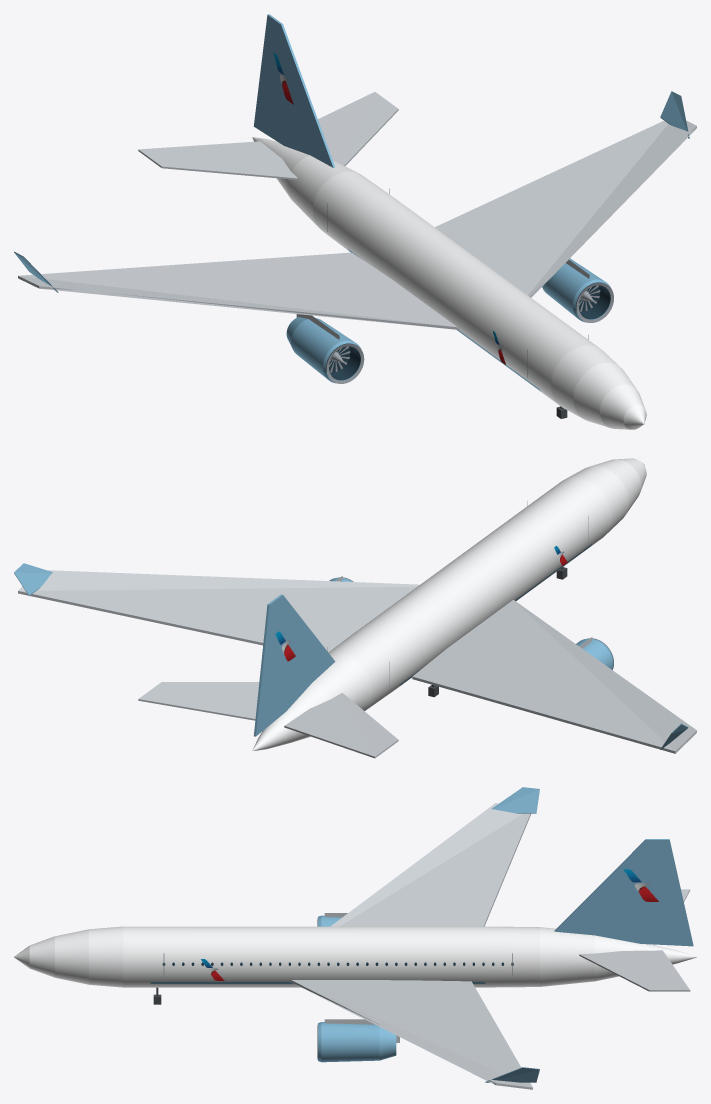
The model's file is a350-AAL-v3.gltf.
The picture shows the model from 3 angles, top to bottom: view 1: azimuth 30°, elevation 25°; view 2: azimuth 150°, elevation 25°; view 3: azimuth 270°, elevation 25°; orthographic projection. The views are drawn at different scales.
Parts seen in each view (by area): view 1: object 1; view 2: object 1; view 3: object 1.
Part boxes in pixels (x1,y1,x2,y2): object 1: (14,14,696,429); object 1: (14,458,696,758); object 1: (14,787,696,1089).
Bounding box in the file's own units: 65 × 18.14 × 67.
8 materials, 1 textured.
